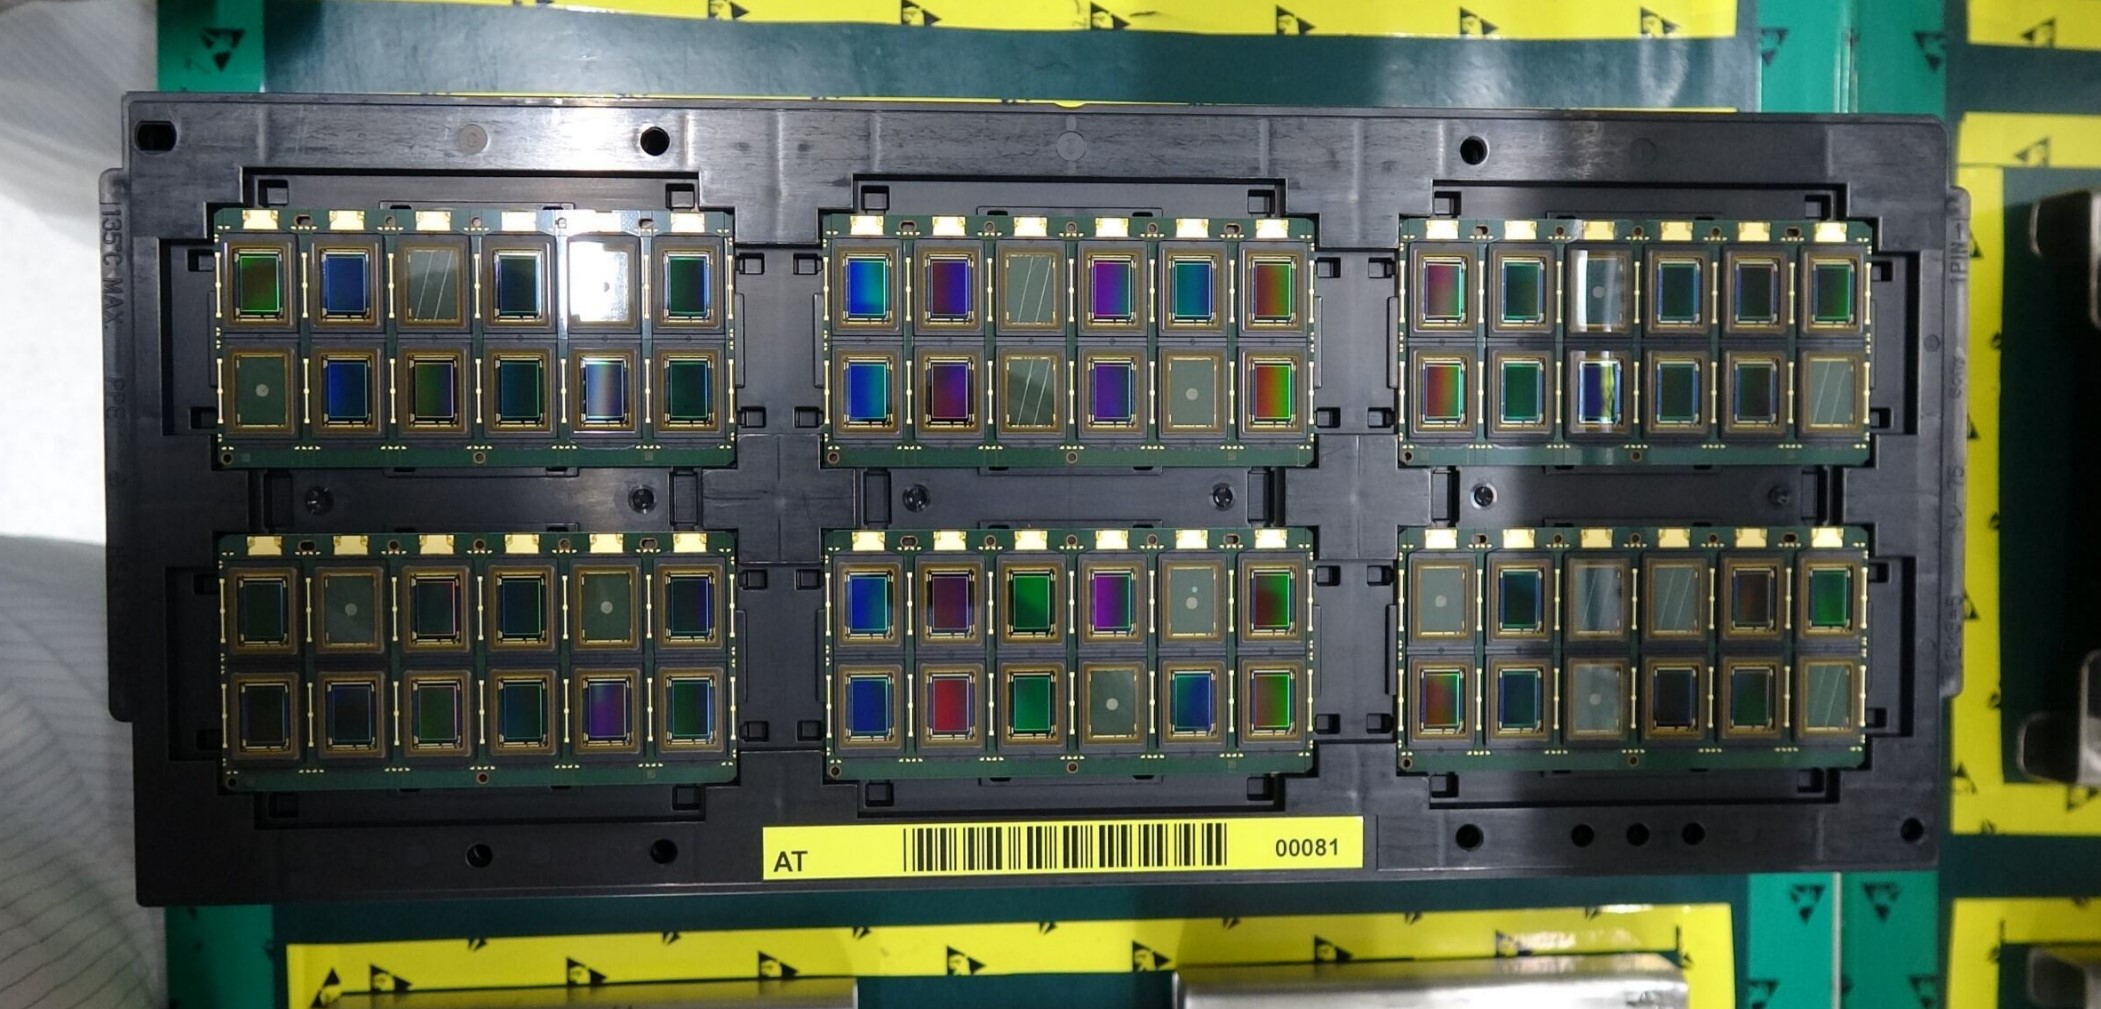Bad_mark_from_BMS_mold: (393, 232, 473, 330), (996, 344, 1067, 440), (1791, 653, 1862, 740), (996, 243, 1065, 331), (1562, 555, 1632, 642), (1800, 346, 1867, 435), (1641, 553, 1708, 641)
Bad_mark_from_Maker: (222, 343, 295, 435), (1076, 658, 1151, 746), (311, 564, 385, 654), (565, 561, 638, 650), (1156, 553, 1226, 645), (1156, 346, 1225, 435), (1566, 247, 1635, 334), (1410, 557, 1474, 645), (1562, 657, 1629, 738)
